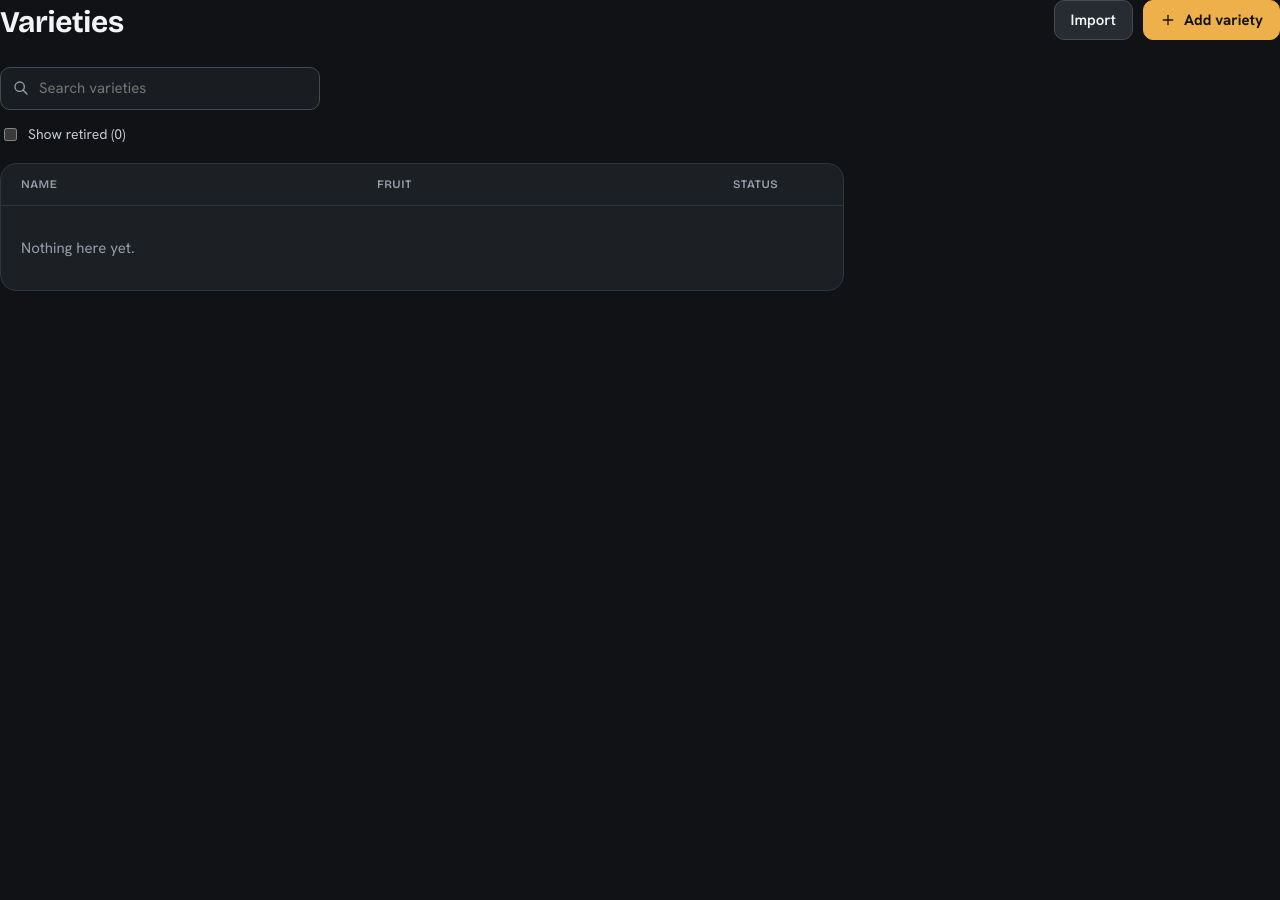
Test case: ImportDialog › surfaces an Import button on a list that supports it
Click the button "Import" at (1093, 20), box [1054,0,1133,40]
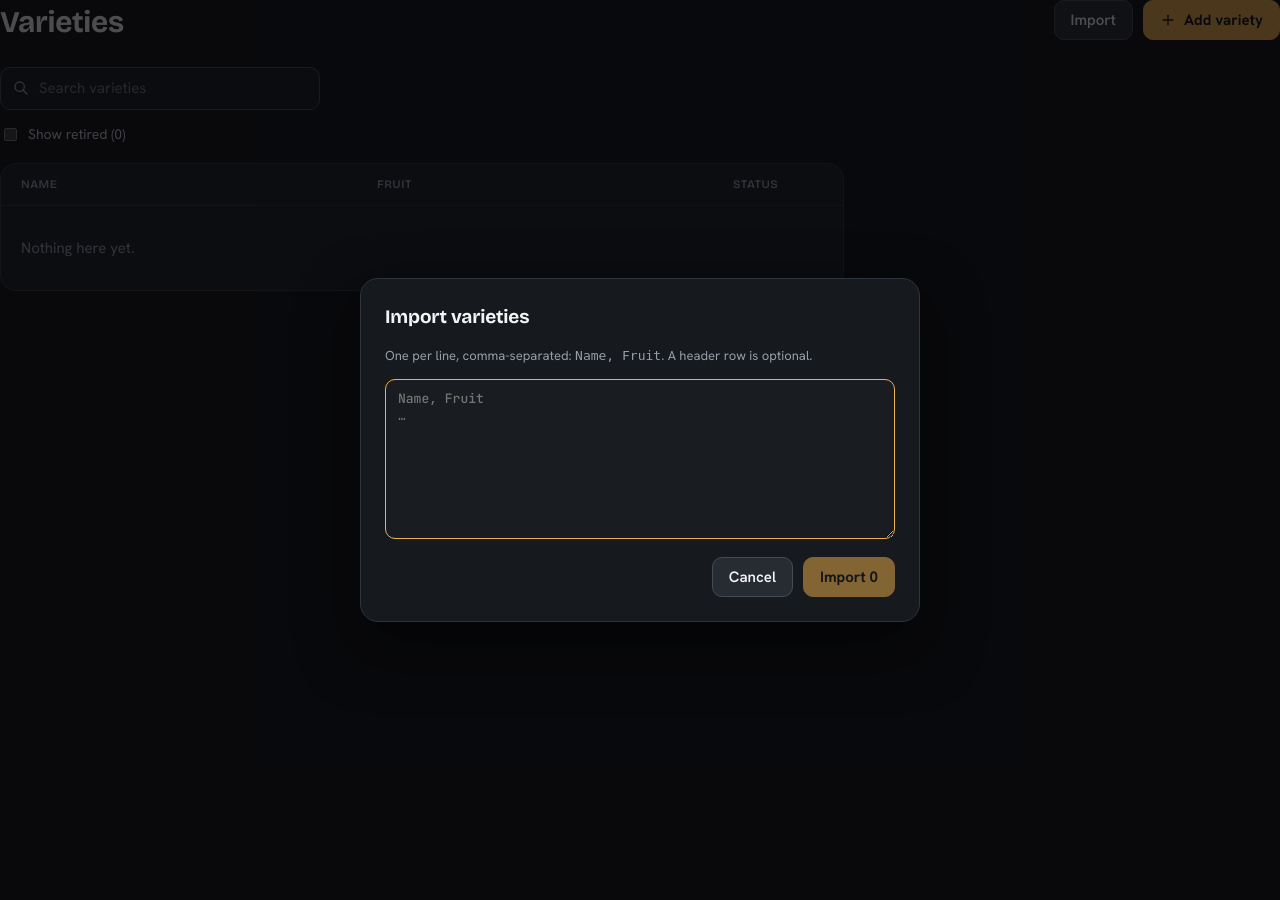
Check: the dialog is shown, box [360,278,920,622]
